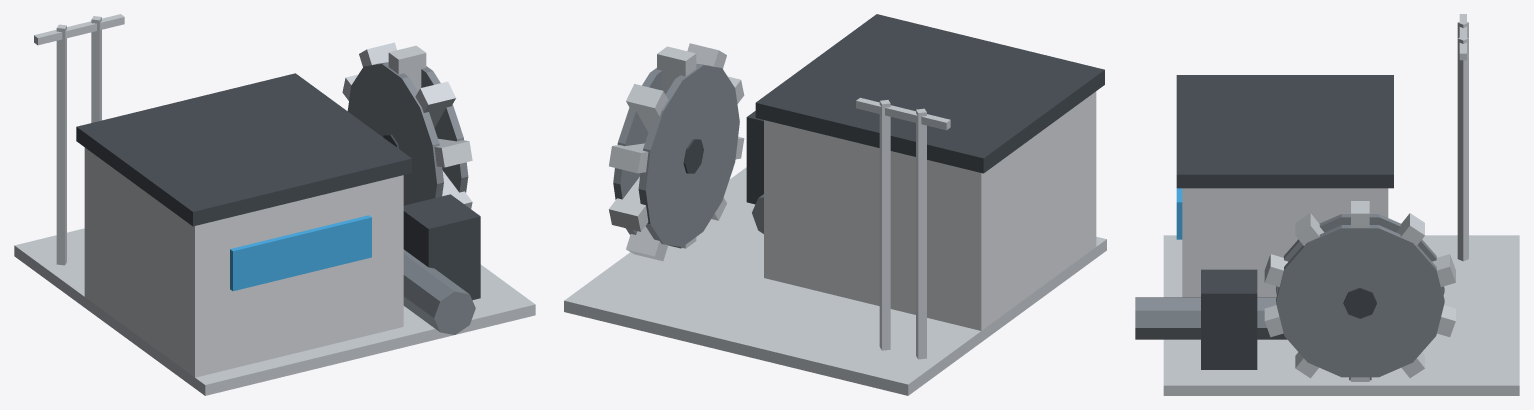
Rendered from waterwheel_2.glb.
3 views of the same model, side by side, from view 1: azimuth 30°, elevation 25°; view 2: azimuth 150°, elevation 25°; view 3: azimuth 270°, elevation 25° (orthographic). The views are drawn at different scales.
Parts seen in each view (by area): view 1: cinza_claro.002, metal.004, pedra_clara.003, wheel_roda_metal.001, vidro_azul.003, wheel_pedra_clara, pedra_escura.005; view 2: cinza_claro.002, pedra_clara.003, metal.004, wheel_roda_metal.001, wheel_pedra_clara, wheel_metal.002; view 3: metal.004, pedra_clara.003, wheel_roda_metal.001, cinza_claro.002, wheel_pedra_clara, pedra_escura.005, wheel_metal.002, vidro_azul.003.
Part boxes in pixels (box(x1,y1,x2,y2)): cinza_claro.002: box(84, 147, 403, 377); metal.004: box(76, 73, 480, 300); pedra_clara.003: box(14, 14, 535, 395); wheel_roda_metal.001: box(347, 62, 468, 205); vidro_azul.003: box(230, 215, 371, 291); wheel_pedra_clara: box(342, 42, 472, 208); pedra_escura.005: box(403, 249, 475, 334); cinza_claro.002: box(764, 91, 1096, 330); pedra_clara.003: box(564, 97, 1106, 395); metal.004: box(746, 14, 1104, 204); wheel_roda_metal.001: box(613, 63, 739, 246); wheel_pedra_clara: box(608, 43, 744, 261); wheel_metal.002: box(683, 139, 703, 173); metal.004: box(1176, 75, 1393, 369); pedra_clara.003: box(1163, 14, 1519, 395); wheel_roda_metal.001: box(1276, 214, 1444, 377); cinza_claro.002: box(1182, 188, 1388, 297); wheel_pedra_clara: box(1264, 201, 1455, 381); pedra_escura.005: box(1135, 297, 1371, 380); wheel_metal.002: box(1343, 287, 1376, 318); vidro_azul.003: box(1176, 188, 1182, 239).
Size of the model in its own units: 1.95 by 1.36 by 2.05.
